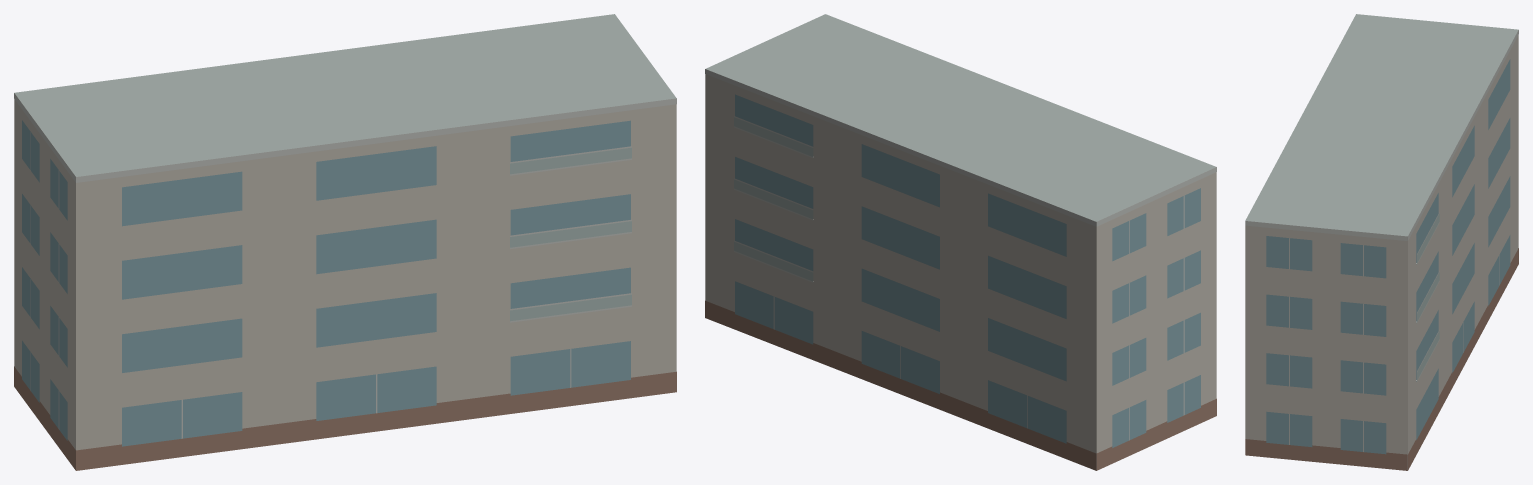
File: residential-a54fc783-9ccb-4208-8bca-3933df1e9d3f.glb
The picture shows the model from 3 angles, left to right: view 1: azimuth 30°, elevation 25°; view 2: azimuth 150°, elevation 25°; view 3: azimuth 270°, elevation 25°; orthographic projection. The views are drawn at different scales.
Parts seen in each view (by area): view 1: residential-a54fc783-9ccb-4208-8bca-3933df1e9d3f.tmp; view 2: residential-a54fc783-9ccb-4208-8bca-3933df1e9d3f.tmp; view 3: residential-a54fc783-9ccb-4208-8bca-3933df1e9d3f.tmp.
Boxes of the visible parts, x1,y1,x2,y2 form: residential-a54fc783-9ccb-4208-8bca-3933df1e9d3f.tmp: (14,14,676,470); residential-a54fc783-9ccb-4208-8bca-3933df1e9d3f.tmp: (705,14,1216,470); residential-a54fc783-9ccb-4208-8bca-3933df1e9d3f.tmp: (1245,14,1518,470).
Size of the model in its own units: 24.83 by 12.2 by 12.91.
